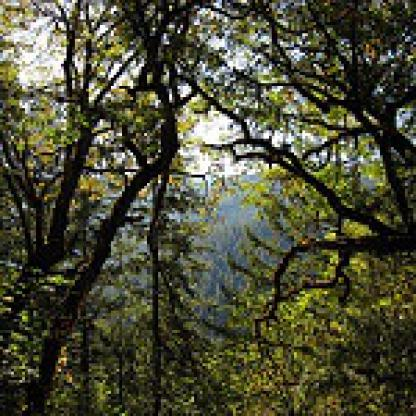tree: (0, 2, 186, 415), (225, 0, 413, 344)
trunk: (150, 233, 169, 413)
